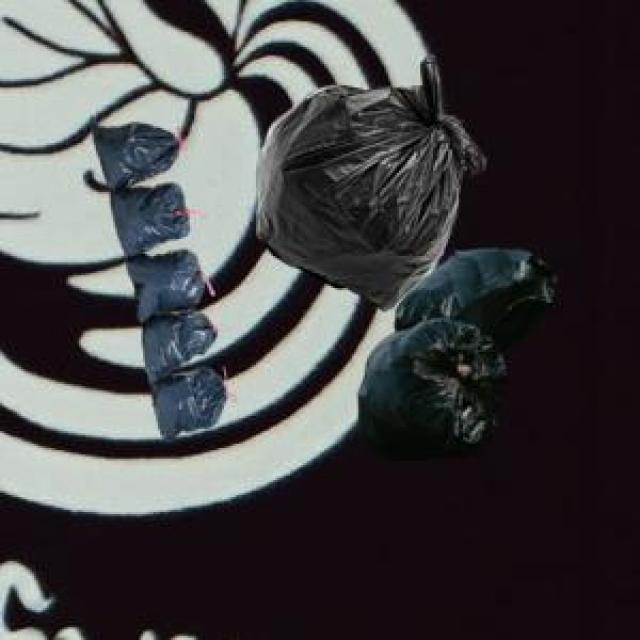waste: (258, 58, 555, 453), (94, 122, 226, 437)
